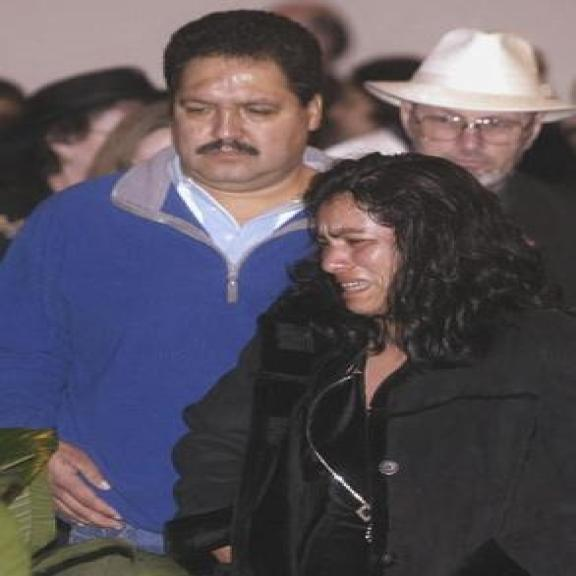face: (174, 57, 328, 185), (394, 94, 539, 188), (304, 194, 401, 316)
